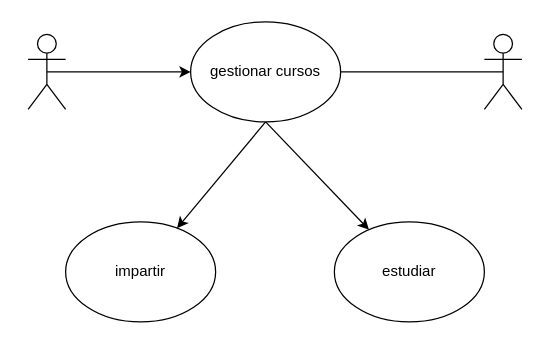
Some shapes in this 553 by 344 pixel diagram are drawn without their labels. The centre of each missing label's shape, as x and y in pixels:
"Alumno" goes at (46,71).
"profesor" goes at (502,71).
